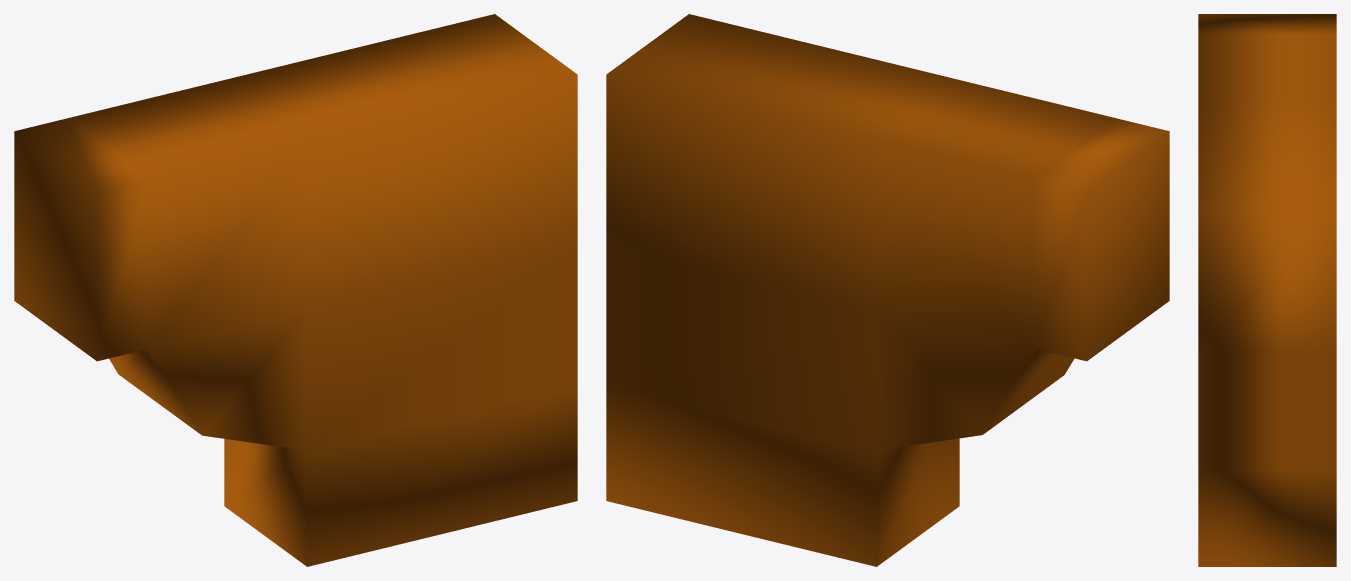
The model's file is Shelf_01_Base.fbx.
The picture shows the model from 3 angles, left to right: view 1: azimuth 30°, elevation 25°; view 2: azimuth 150°, elevation 25°; view 3: azimuth 270°, elevation 25°; orthographic projection. The views are drawn at different scales.
Parts seen in each view (by area): view 1: Shelf_01_Base; view 2: Shelf_01_Base; view 3: Shelf_01_Base.
Boxes of the visible parts, x1=… form: Shelf_01_Base: x1=14, y1=14, x2=577, y2=566; Shelf_01_Base: x1=606, y1=14, x2=1169, y2=566; Shelf_01_Base: x1=1198, y1=14, x2=1336, y2=566.
Size of the model in its own units: 37.62 by 31.88 by 11.22.
